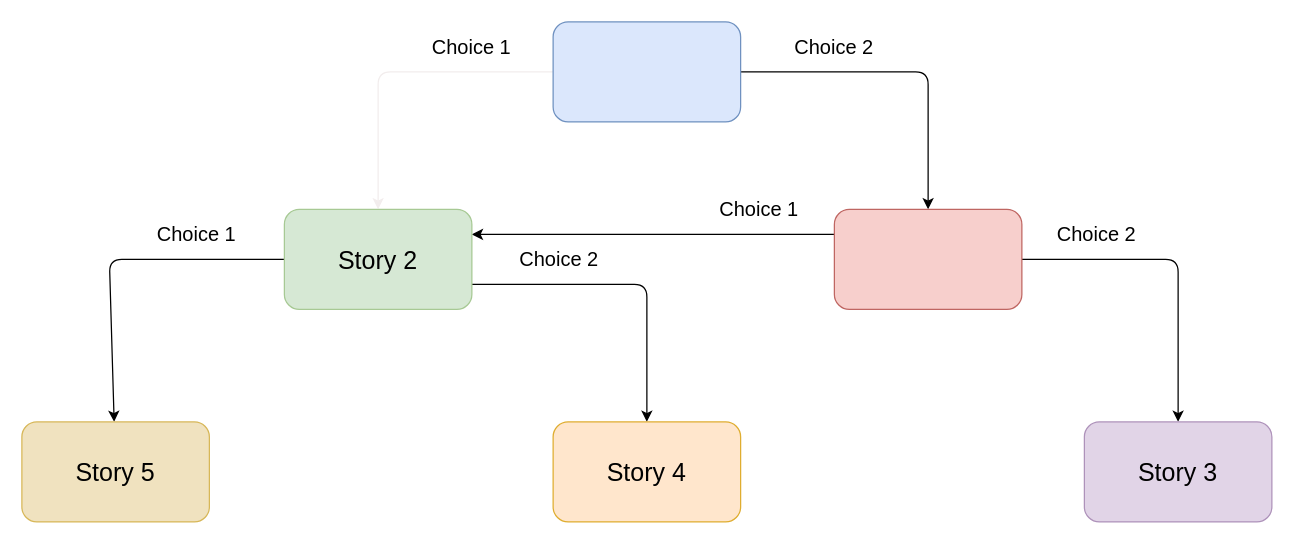
This 1294x544 diagram has some shape labels left out. Each missing label, with the box of its shape:
Story 0: (552, 21, 741, 122)
Story 1: (833, 208, 1022, 309)
